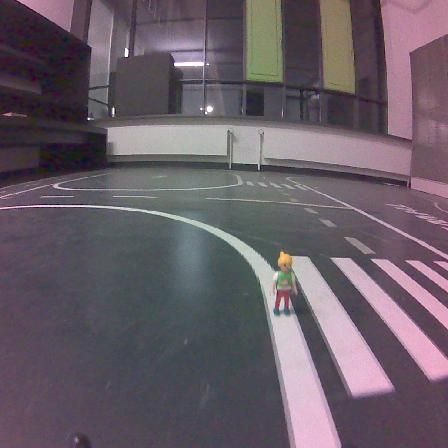CHILD: (271, 251, 297, 314)
